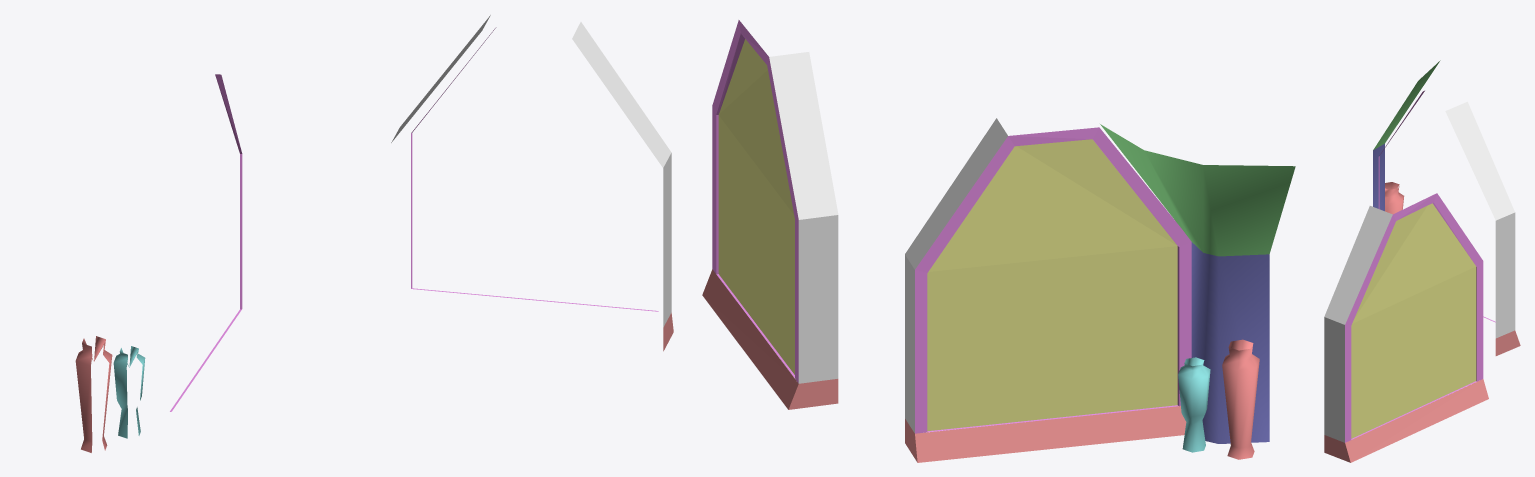
Rendered from interior_B_delf_store_19.gltf.
The picture shows the model from 3 angles, left to right: view 1: azimuth 30°, elevation 25°; view 2: azimuth 150°, elevation 25°; view 3: azimuth 270°, elevation 25°; orthographic projection. The views are drawn at different scales.
Parts seen in each view (by area): view 1: interior_B_delf_store_19; view 2: interior_B_delf_store_19; view 3: interior_B_delf_store_19.
Boxes of the visible parts, box(x1,y1,x2,y2) form: interior_B_delf_store_19: box(75, 15, 673, 452); interior_B_delf_store_19: box(702, 20, 1295, 462); interior_B_delf_store_19: box(1324, 60, 1520, 462).
Bounding box in the file's own units: 2.68 × 1.27 × 0.9974.
